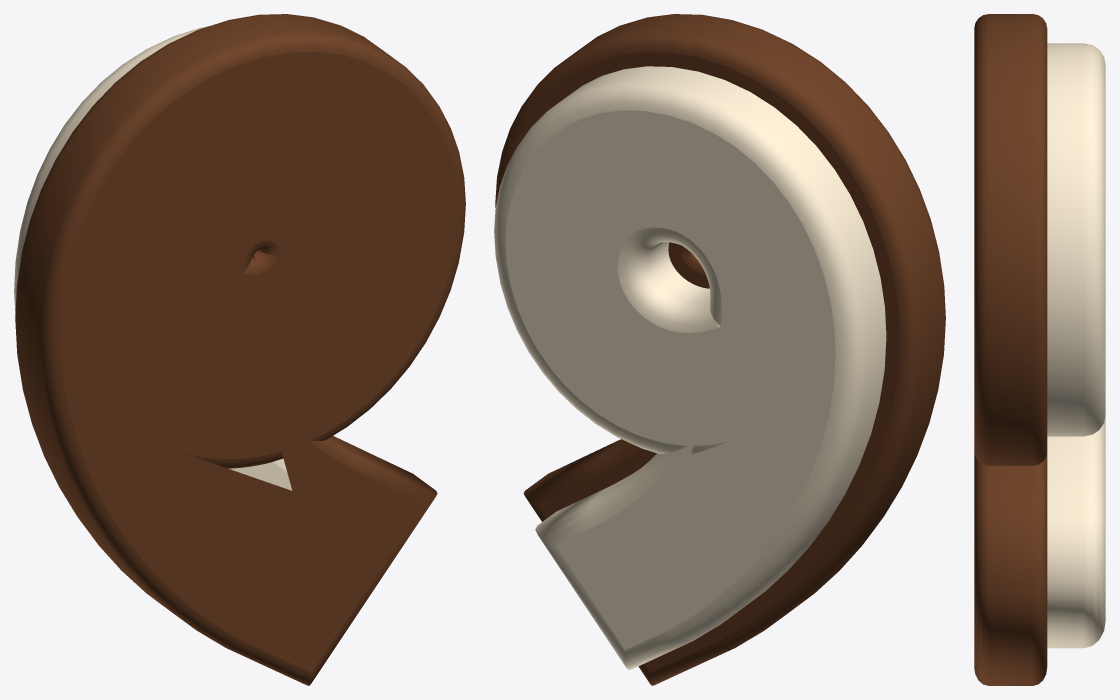
The model's file is Digit_9.fbx.
The picture shows the model from 3 angles, left to right: view 1: azimuth 30°, elevation 25°; view 2: azimuth 150°, elevation 25°; view 3: azimuth 270°, elevation 25°; orthographic projection. The views are drawn at different scales.
Visible parts, largest first — view 1: Digit_9; view 2: Digit_9; view 3: Digit_9.
Part boxes in pixels (box(x1,y1,x2,y2)): Digit_9: box(14, 14, 465, 685); Digit_9: box(494, 14, 945, 685); Digit_9: box(974, 14, 1105, 685).
Size of the model in its own units: 0.6354 by 0.9453 by 0.18.
Materials: 1 (1 with a texture image).
